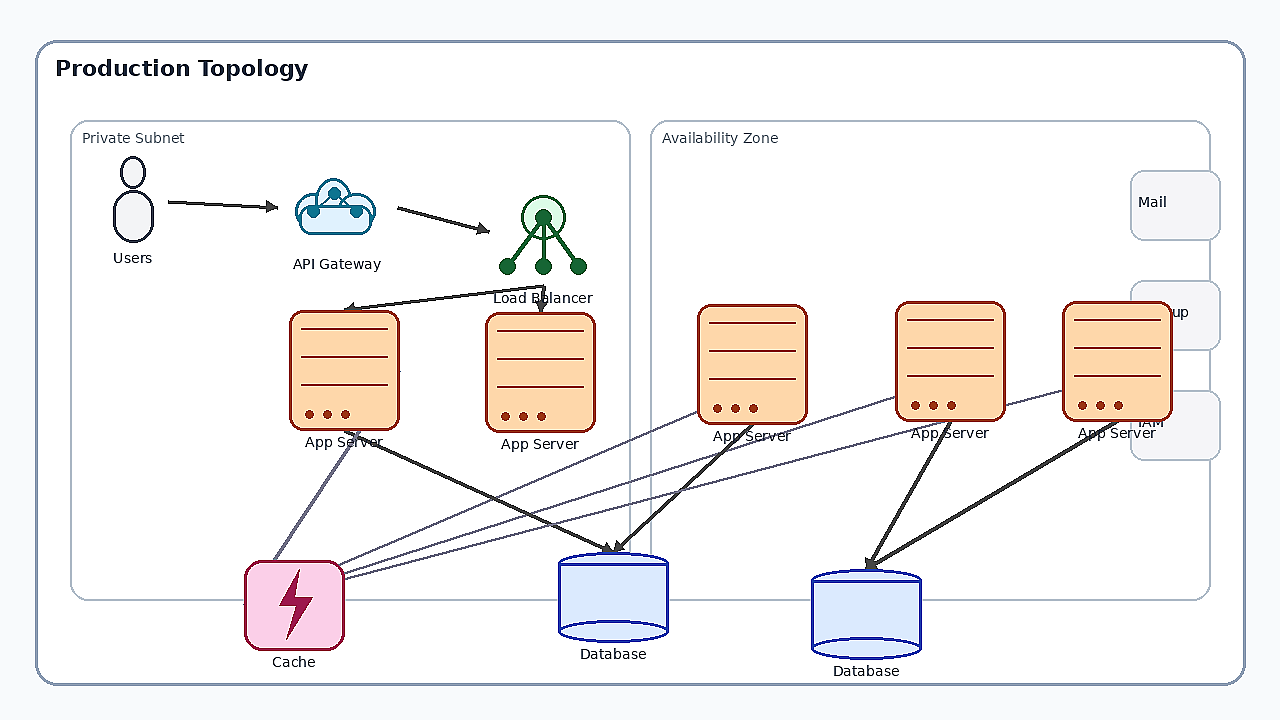API Gateway: (277, 162, 397, 252)
Application Server: (895, 301, 1005, 421), (697, 304, 807, 424), (289, 310, 399, 430), (1062, 301, 1172, 421), (485, 312, 595, 432)
Cache: (244, 560, 344, 650)
Database: (558, 552, 668, 642), (811, 569, 921, 659)
Load Balancer: (488, 176, 598, 286)
User: (98, 156, 168, 246)
